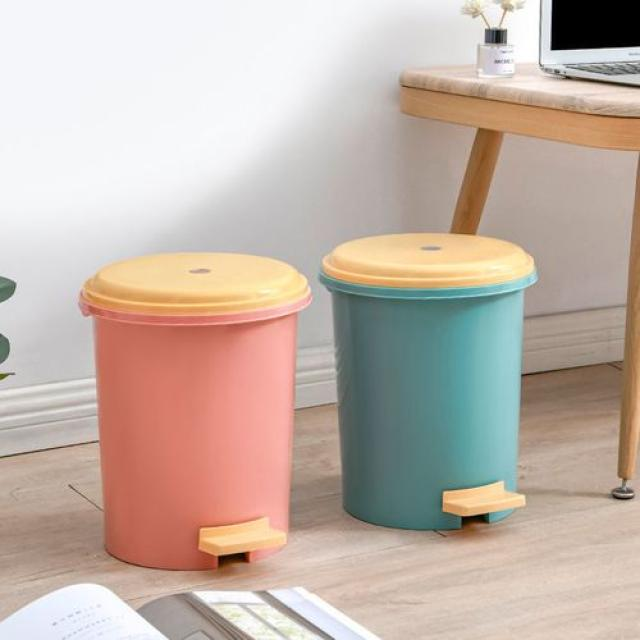dustbin: (77, 247, 316, 581), (321, 226, 542, 534)
